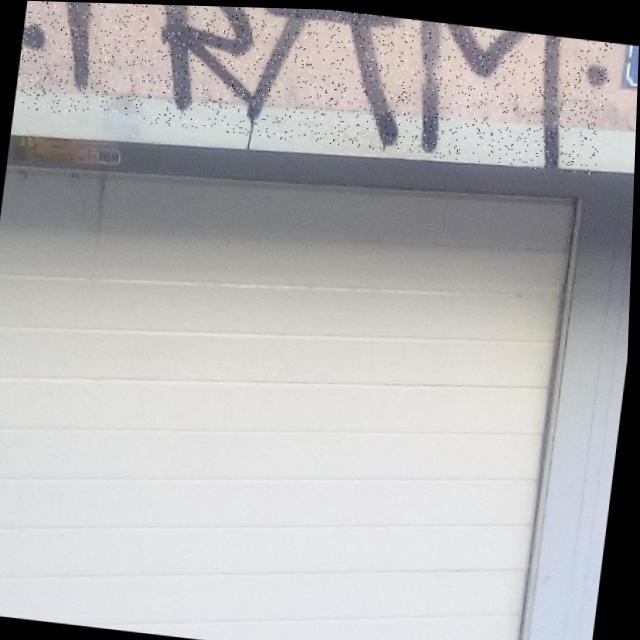-: (12, 1, 613, 172)
